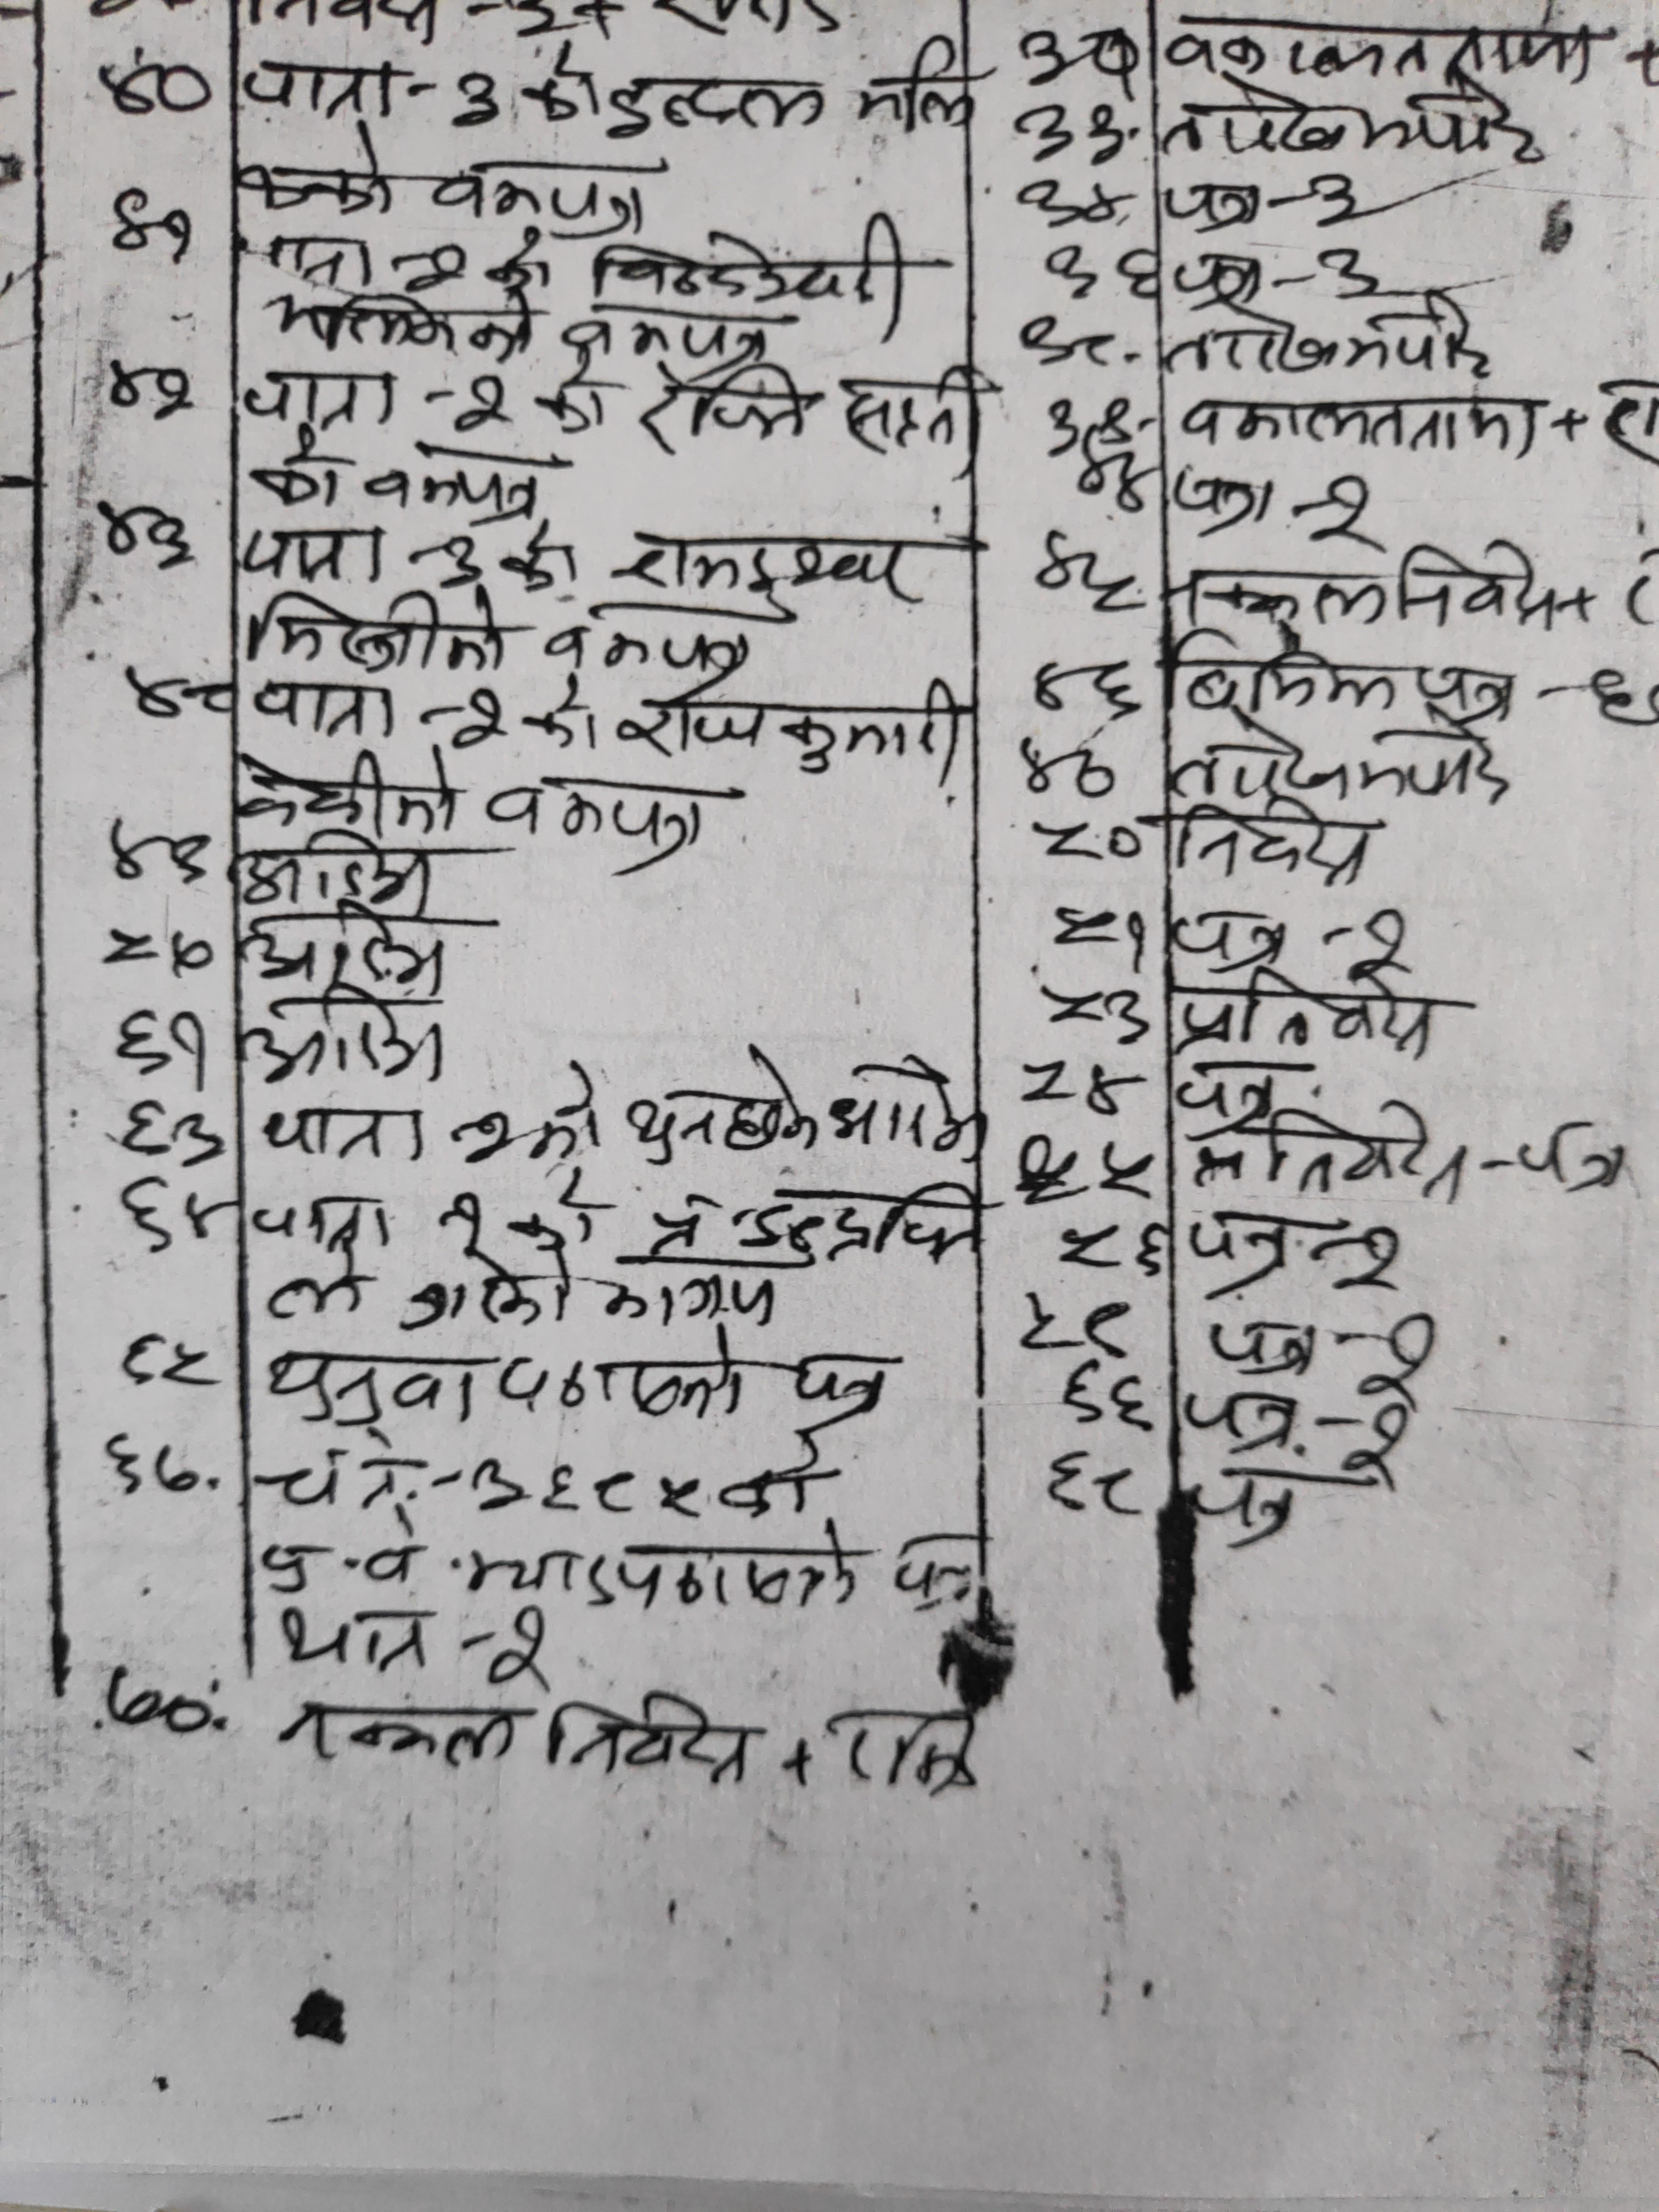text: (453, 1526, 864, 1613), (1178, 552, 1567, 641), (645, 1165, 976, 1268), (1171, 629, 1530, 721), (622, 523, 941, 625), (617, 681, 971, 773), (1164, 14, 1607, 87), (1175, 721, 1528, 812), (589, 225, 910, 317), (1176, 383, 1551, 462), (1187, 1113, 1478, 1209), (483, 759, 721, 873), (493, 1327, 756, 1426), (612, 1042, 821, 1165), (242, 585, 514, 678), (1178, 968, 1448, 1059), (542, 1691, 765, 1796), (242, 989, 453, 1089), (258, 1345, 483, 1433), (1175, 465, 1394, 556), (240, 745, 467, 833), (464, 1449, 709, 1527), (429, 155, 662, 235), (633, 359, 816, 456), (542, 604, 760, 686), (833, 366, 988, 481), (603, 66, 843, 138), (1176, 805, 1380, 888), (1161, 165, 1392, 239), (1169, 239, 1396, 312), (361, 439, 547, 528), (246, 907, 453, 984), (258, 1433, 420, 1529), (824, 1059, 979, 1158), (242, 831, 439, 907), (240, 132, 403, 225), (237, 42, 411, 125), (394, 1261, 577, 1339), (591, 1261, 795, 1331), (467, 1064, 606, 1165), (254, 1521, 429, 1599), (240, 355, 396, 442), (277, 1594, 436, 1677), (852, 28, 969, 139), (256, 1099, 432, 1170), (98, 1662, 232, 1752), (1185, 1463, 1319, 1554), (1509, 1111, 1638, 1204), (234, 523, 399, 594), (106, 1172, 228, 1264), (1011, 1136, 1164, 1207), (1042, 1204, 1173, 1287), (1183, 1378, 1305, 1465), (251, 676, 406, 744), (1033, 526, 1152, 615), (782, 1345, 906, 1428), (1354, 1306, 1455, 1407), (1180, 1211, 1297, 1298), (1011, 23, 1143, 99), (84, 491, 202, 577), (98, 810, 218, 894), (716, 1437, 831, 1524), (247, 1186, 401, 1251), (110, 1322, 230, 1404), (1011, 1294, 1141, 1369), (1199, 1308, 1328, 1383), (89, 54, 223, 125), (113, 653, 228, 733), (108, 1000, 213, 1087), (1331, 1402, 1429, 1494), (1037, 244, 1166, 314), (98, 176, 199, 265), (87, 1432, 209, 1505), (1018, 1049, 1140, 1122), (98, 916, 228, 984), (1037, 1446, 1150, 1524), (1030, 805, 1155, 874), (96, 354, 202, 435), (509, 40, 606, 129), (242, 439, 352, 517), (260, 1252, 369, 1331), (1014, 171, 1143, 237), (1014, 103, 1134, 172), (113, 1099, 232, 1169), (1012, 726, 1117, 805), (1056, 1360, 1161, 1439), (1040, 894, 1152, 967), (1037, 972, 1150, 1043), (1025, 653, 1143, 721), (1175, 902, 1290, 970), (1175, 1052, 1286, 1122), (1324, 1219, 1415, 1305), (1351, 897, 1431, 982), (1016, 310, 1121, 374), (1042, 390, 1138, 458), (486, 1613, 565, 1689), (432, 1181, 497, 1263), (497, 531, 580, 592), (451, 681, 511, 759), (444, 61, 505, 134), (429, 529, 488, 590)
